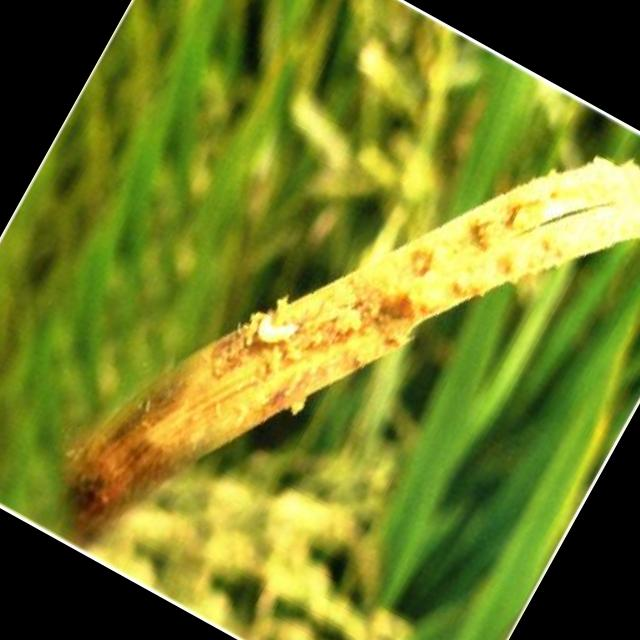whorl-maggot: (236, 299, 312, 371)
